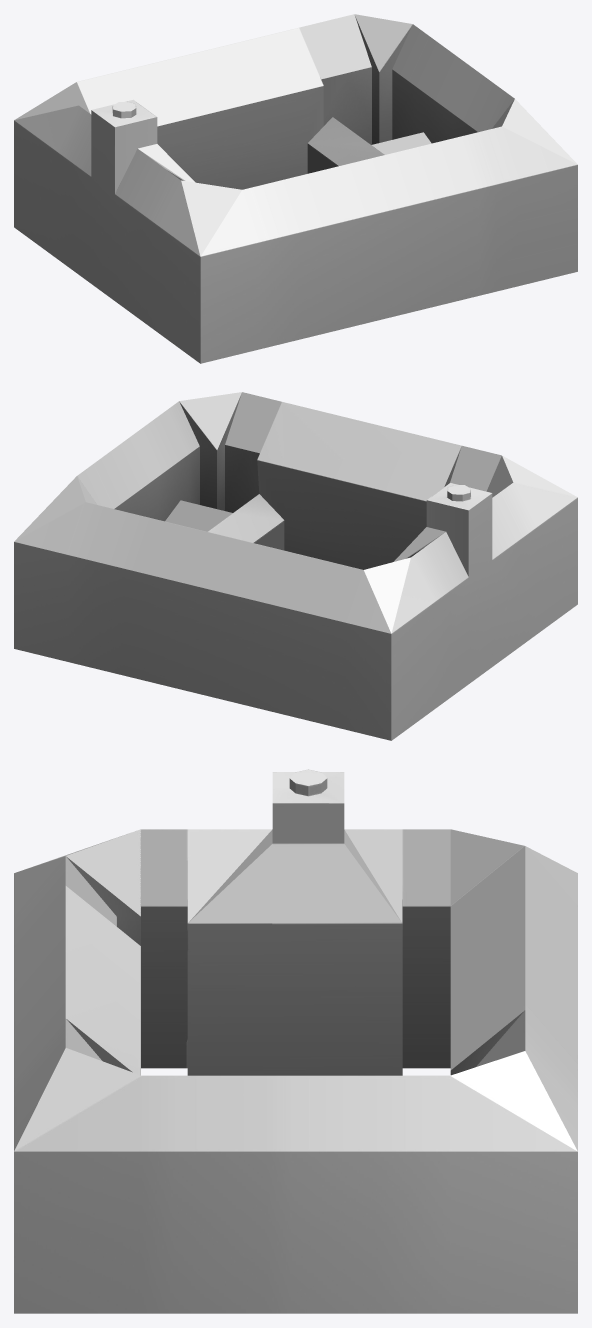
The model's file is beuth1.4_groesser.dae.
The picture shows the model from 3 angles, top to bottom: view 1: azimuth 30°, elevation 25°; view 2: azimuth 150°, elevation 25°; view 3: azimuth 270°, elevation 25°; orthographic projection. The views are drawn at different scales.
Visible parts, largest first — view 1: Mesh_003; view 2: Mesh_003; view 3: Mesh_003.
Part boxes in pixels (x1=…): Mesh_003: x1=14, y1=14, x2=577, y2=363; Mesh_003: x1=14, y1=392, x2=577, y2=740; Mesh_003: x1=14, y1=769, x2=577, y2=1313.
Bounding box in the file's own units: 20.1 × 17.2 × 9.19.
2 materials, 2 textured.
